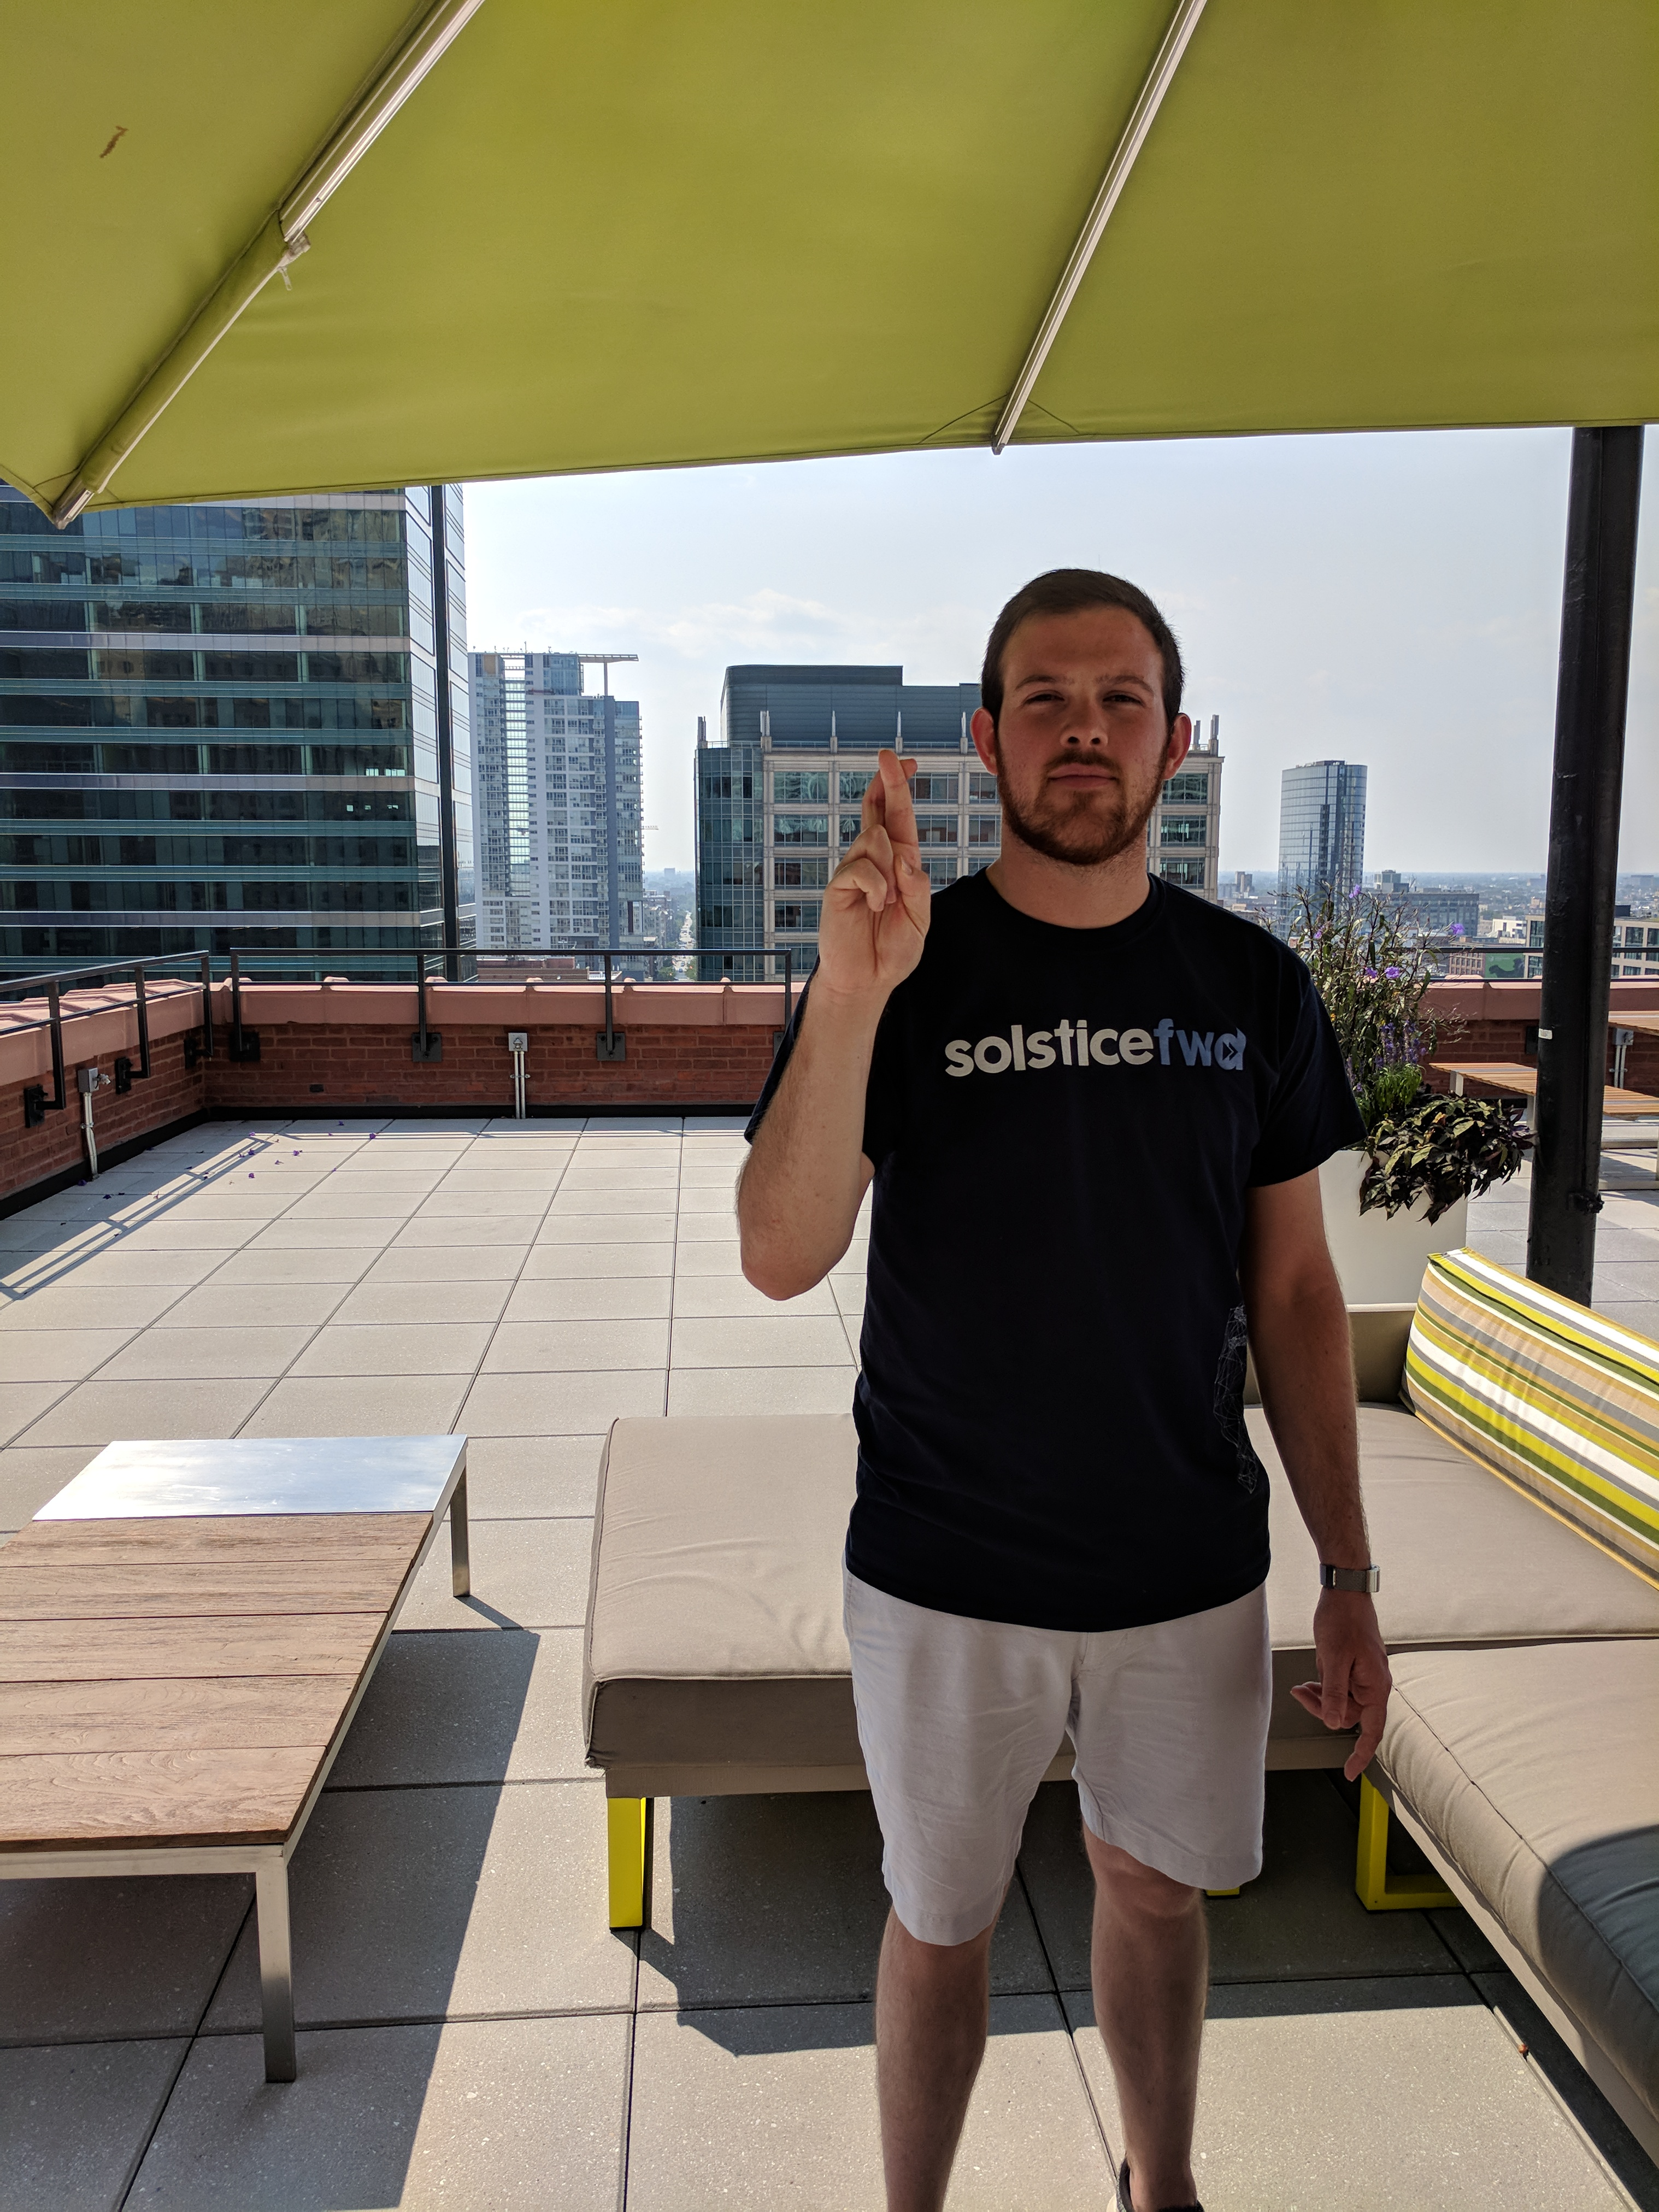r: (817, 749, 951, 1001)
